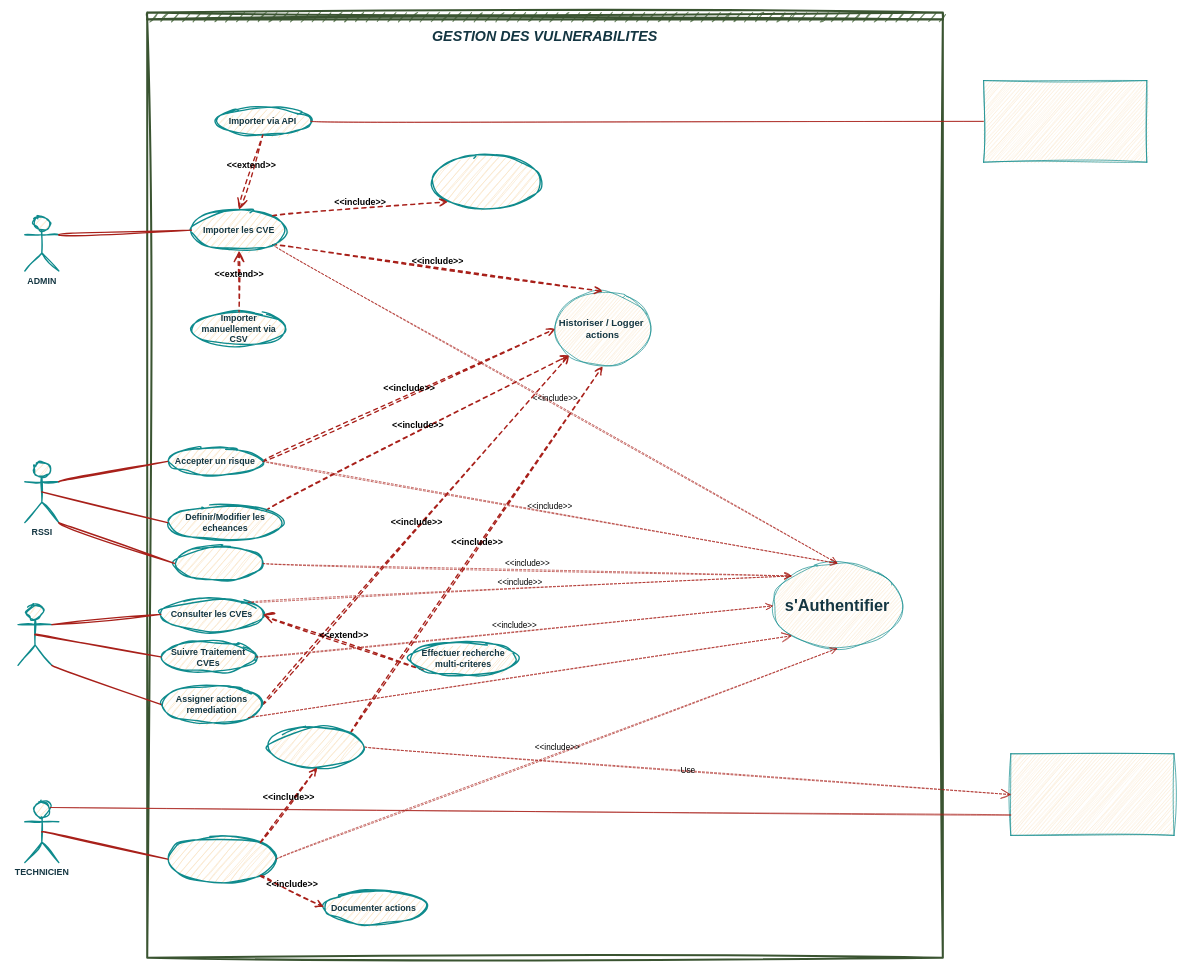
Some shapes in this 1186 by 970 pixel diagram are drawn without their labels. The shapes that lost their labels are listed below. From the top down, each one's centre as x and y in pixels, then its label:
point (1065, 121): SCANNER [Software System] Description of external software system.
point (486, 182): Traiter une vulnérabilité importée
point (218, 563): Consulter les tableaux de bord
point (34, 634): ANALYSTE SOC
point (317, 747): Mettre a jour statut CVE
point (1092, 794): NOTIFICATION SYSTEM [Software System] Description of external software system.
point (222, 858): Enregistrer les actions correctives effectuees
